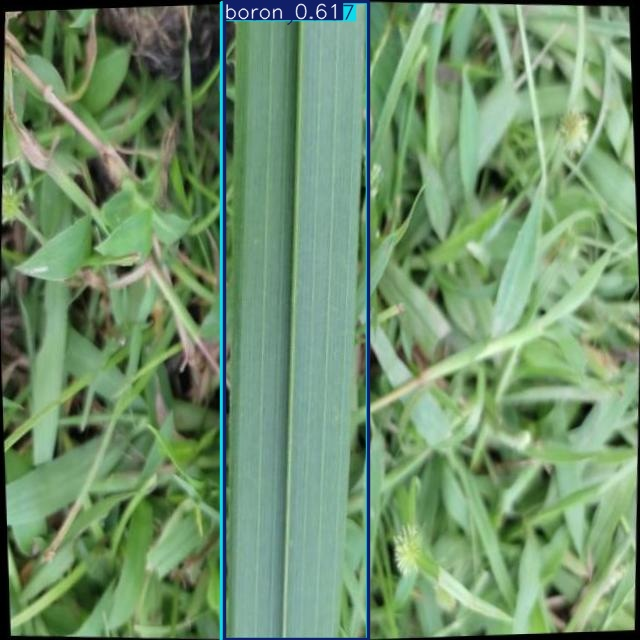Healthy: (222, 3, 367, 640)
nitrogen: (225, 2, 368, 639)
